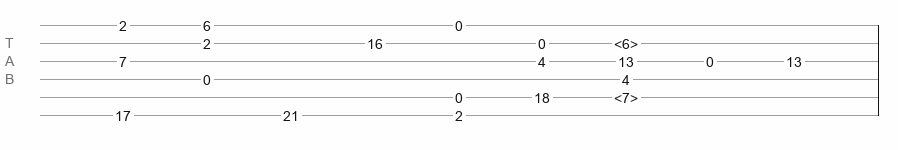0: (203, 72, 211, 82), (455, 18, 463, 28), (455, 90, 463, 100), (538, 36, 546, 46), (706, 54, 714, 64)
13: (618, 54, 634, 64), (786, 54, 802, 64)
16: (367, 36, 383, 46)
17: (115, 108, 131, 118)
18: (534, 90, 550, 100)
2: (119, 18, 127, 28), (203, 36, 211, 46), (455, 108, 463, 118)
21: (283, 108, 299, 118)
4: (538, 54, 546, 64), (622, 72, 630, 82)
6: (203, 18, 211, 28)
7: (119, 54, 127, 64)
harmonic: (614, 90, 638, 100), (614, 36, 638, 46)
